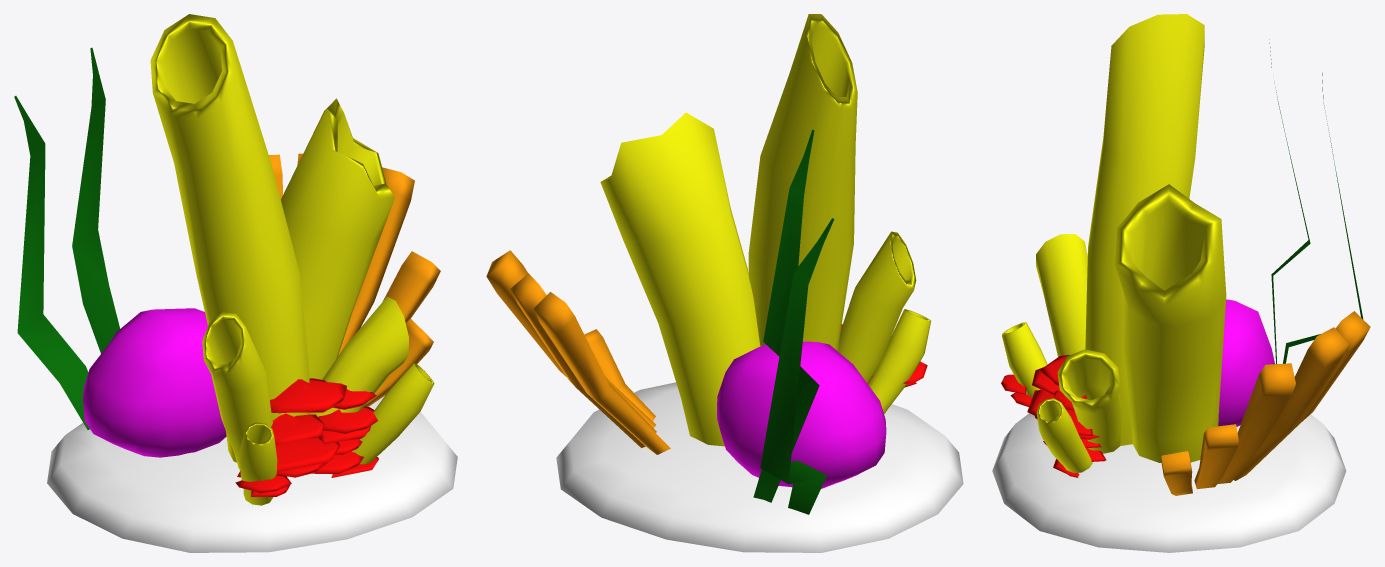
The model's file is mixcoral_low.fbx.
The picture shows the model from 3 angles, left to right: view 1: azimuth 30°, elevation 25°; view 2: azimuth 150°, elevation 25°; view 3: azimuth 270°, elevation 25°; orthographic projection. The views are drawn at different scales.
Visible parts, largest first — view 1: mix_coral_low; view 2: mix_coral_low; view 3: mix_coral_low.
Part boxes in pixels (x1,y1,x2,y2): mix_coral_low: (14,14,457,552); mix_coral_low: (486,14,963,552); mix_coral_low: (992,14,1370,552).
Bounding box in the file's own units: 86.43 × 97.37 × 76.49.
